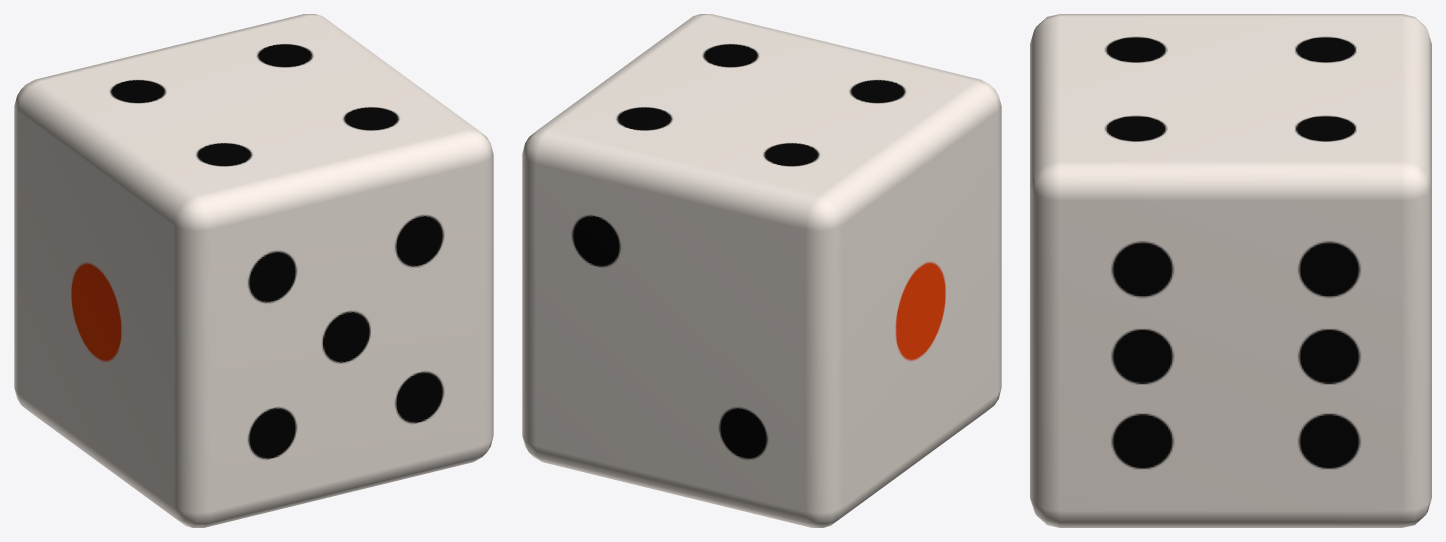
File: dice_MD.fbx
The picture shows the model from 3 angles, left to right: view 1: azimuth 30°, elevation 25°; view 2: azimuth 150°, elevation 25°; view 3: azimuth 270°, elevation 25°; orthographic projection. The views are drawn at different scales.
Parts seen in each view (by area): view 1: pCube1; view 2: pCube1; view 3: pCube1.
Boxes of the visible parts, x1,y1,x2,y2 form: pCube1: (14,14,493,527); pCube1: (522,14,1001,527); pCube1: (1030,14,1431,527).
Size of the model in its own units: 0.6109 by 0.6109 by 0.6109.
